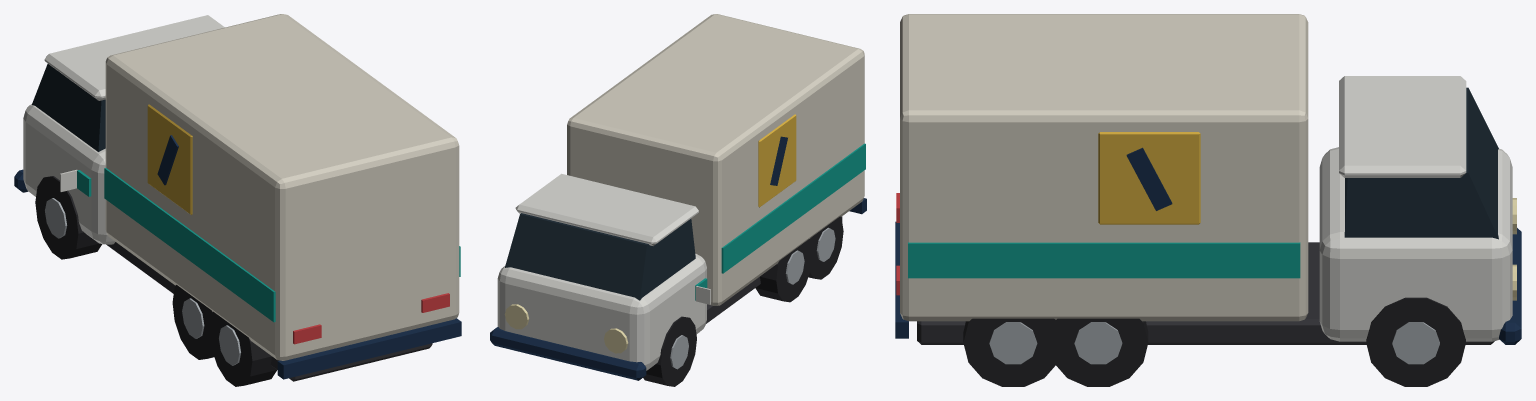
The model's file is truck.glb.
3 renders of one model, left to right at view 1: azimuth 30°, elevation 25°; view 2: azimuth 150°, elevation 25°; view 3: azimuth 270°, elevation 25°, orthographic. The views are drawn at different scales.
Parts seen in each view (by area): view 1: truck; view 2: truck; view 3: truck.
Part boxes in pixels (x1=…): truck: x1=14, y1=14, x2=461, y2=386; truck: x1=490, y1=14, x2=866, y2=386; truck: x1=895, y1=14, x2=1521, y2=386.
Bounding box in the file's own units: 2.4 × 2.66 × 5.52.
